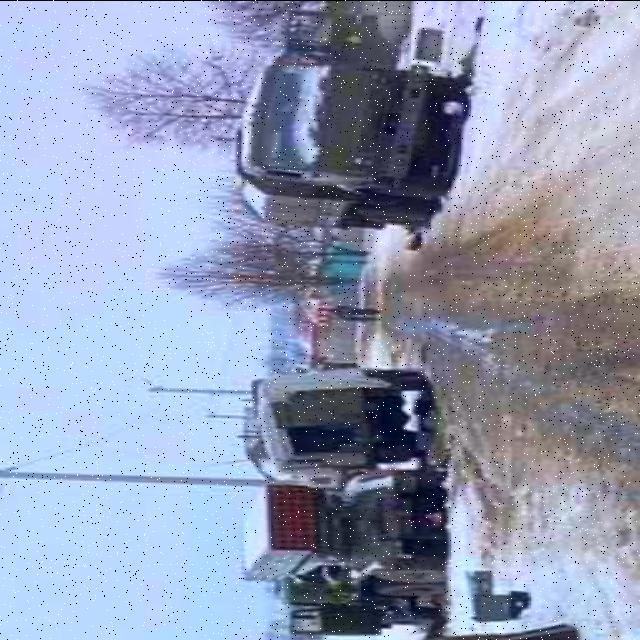MLRS: (238, 466, 449, 626)
TRUCK: (222, 56, 468, 232), (247, 358, 442, 463)
